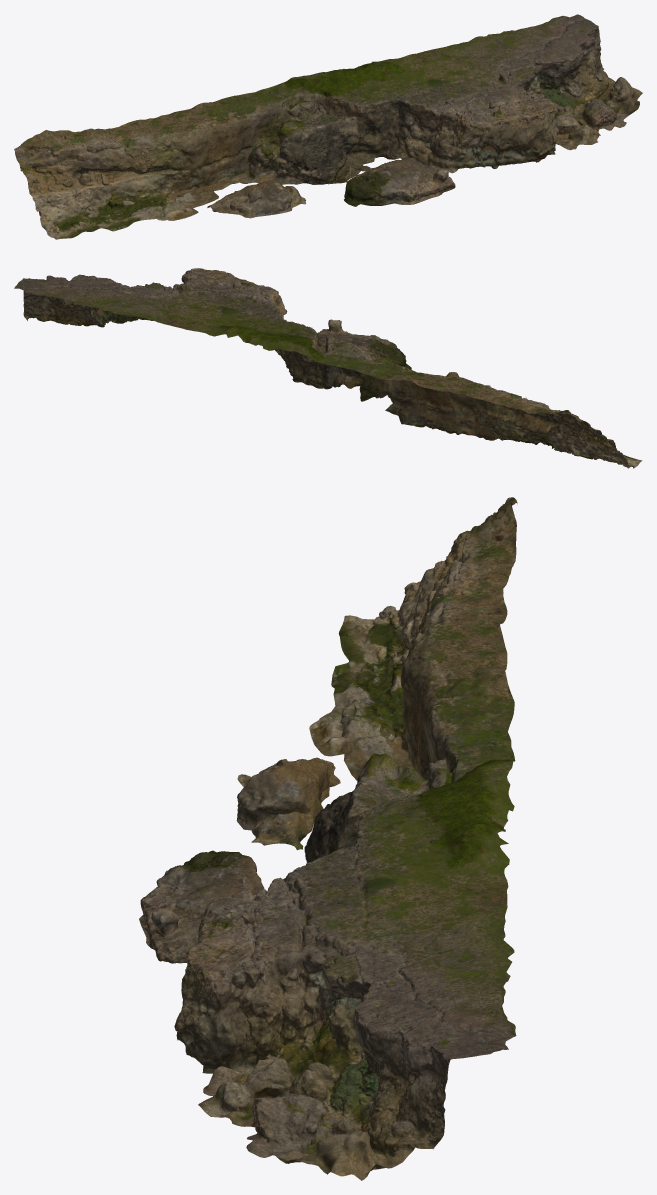
File: coastal_cliff_04.gltf
3 views of the same model, one above another, from view 1: azimuth 30°, elevation 25°; view 2: azimuth 150°, elevation 25°; view 3: azimuth 270°, elevation 25° (orthographic). The views are drawn at different scales.
Visible parts, largest first — view 1: coastal_cliff_04; view 2: coastal_cliff_04; view 3: coastal_cliff_04.
Boxes of the visible parts, <box> form: coastal_cliff_04: <box>14,14,642,239</box>; coastal_cliff_04: <box>14,268,642,468</box>; coastal_cliff_04: <box>139,497,517,1180</box>.
Bounding box in the file's own units: 86.77 × 11 × 24.25.
Materials: 1 (1 with a texture image).
